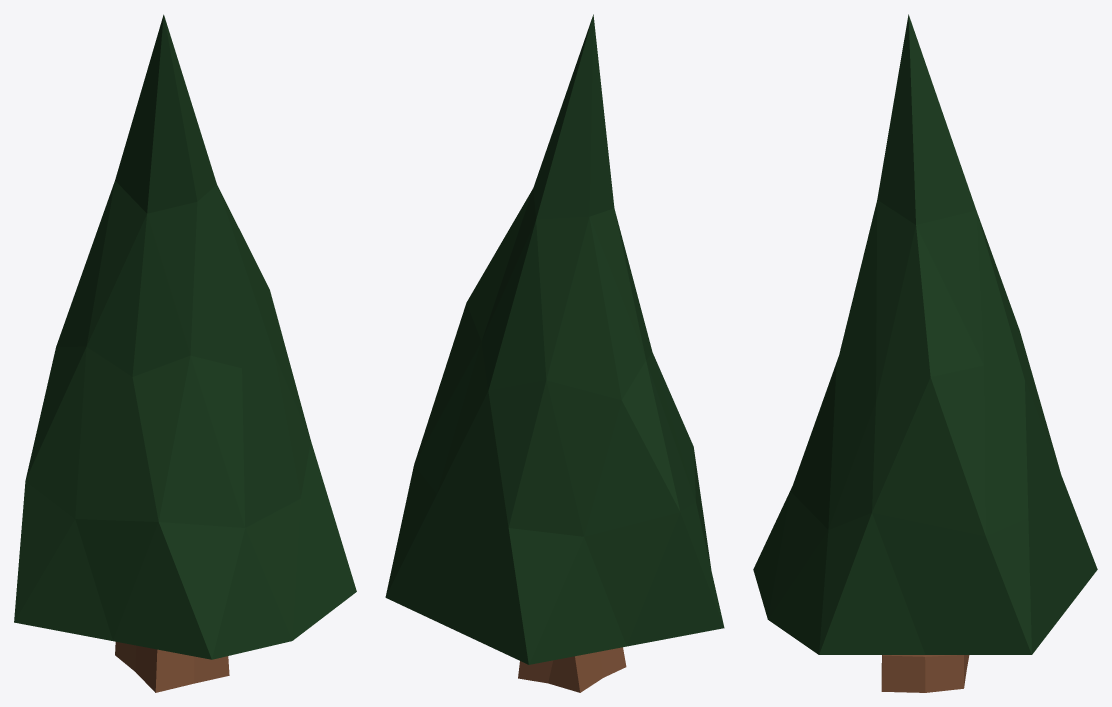
Rendered from Baum_Tanne.fbx.
3 views of the same model, side by side, from view 1: azimuth 30°, elevation 25°; view 2: azimuth 150°, elevation 25°; view 3: azimuth 270°, elevation 25° (orthographic).
Visible parts, largest first — view 1: Baum2; view 2: Baum2; view 3: Baum2.
Boxes of the visible parts, <box> form: Baum2: <box>14,14,356,692</box>; Baum2: <box>385,14,724,692</box>; Baum2: <box>753,14,1097,692</box>.
Bounding box in the file's own units: 5.37 × 11.81 × 5.64.
